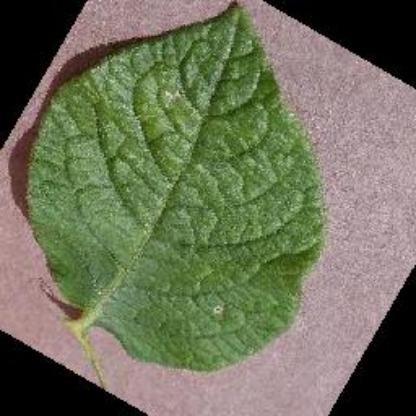Healthy-plant: (0, 9, 366, 383)
